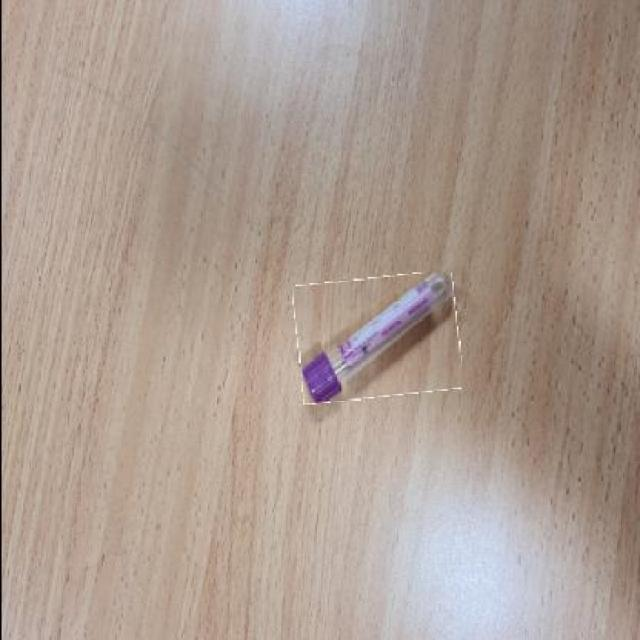Experimental-tube: (294, 274, 460, 400)
